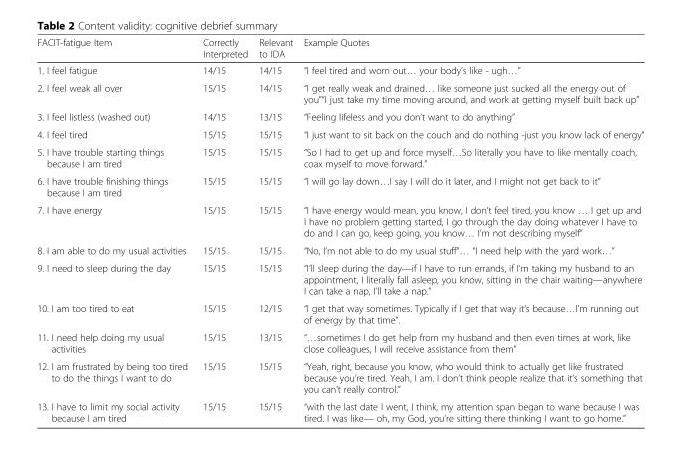table: (36, 36, 643, 423)
table column: (297, 36, 643, 423), (36, 36, 194, 423), (194, 36, 252, 423), (252, 36, 297, 423)
table column header: (36, 36, 643, 61)
table row: (36, 200, 643, 241), (36, 258, 643, 299), (36, 357, 643, 397), (36, 78, 643, 107), (36, 142, 643, 171), (36, 171, 643, 200), (36, 299, 643, 328), (36, 328, 643, 357), (36, 397, 643, 423), (36, 36, 643, 61), (36, 107, 643, 125), (36, 61, 643, 78), (36, 125, 643, 142), (36, 241, 643, 258)
